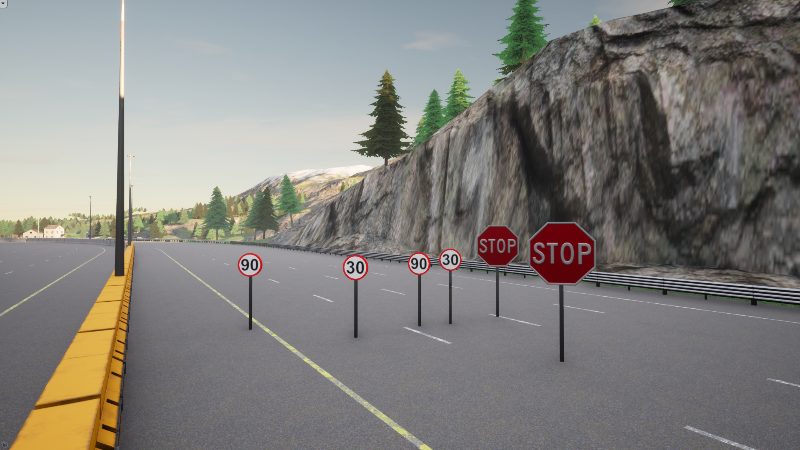fast: (407, 251, 432, 276), (237, 253, 263, 277)
slow: (342, 254, 369, 281), (439, 249, 461, 271)
stop: (527, 221, 597, 286), (476, 224, 520, 268)
